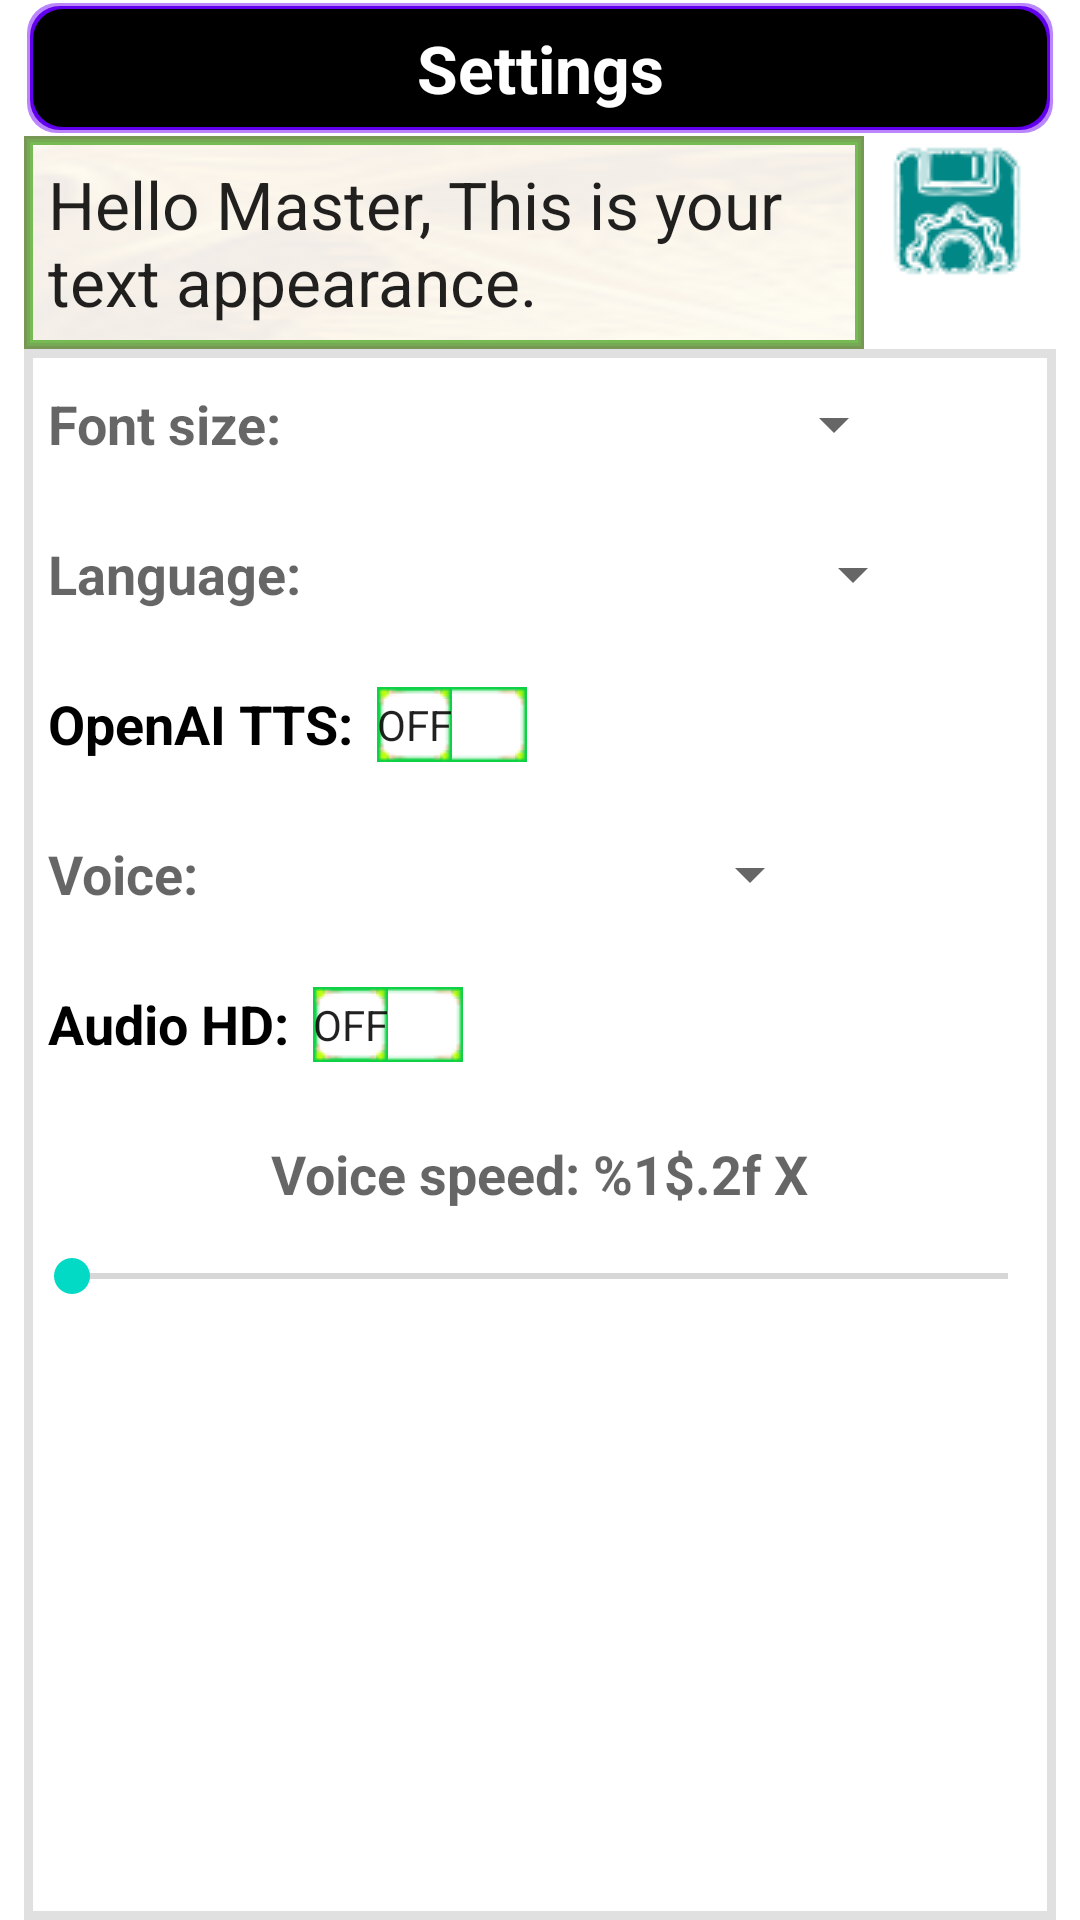

Named icons in this screenshot (1080w x 1920h) and their centers, (x,y):
Save: (957,211)
